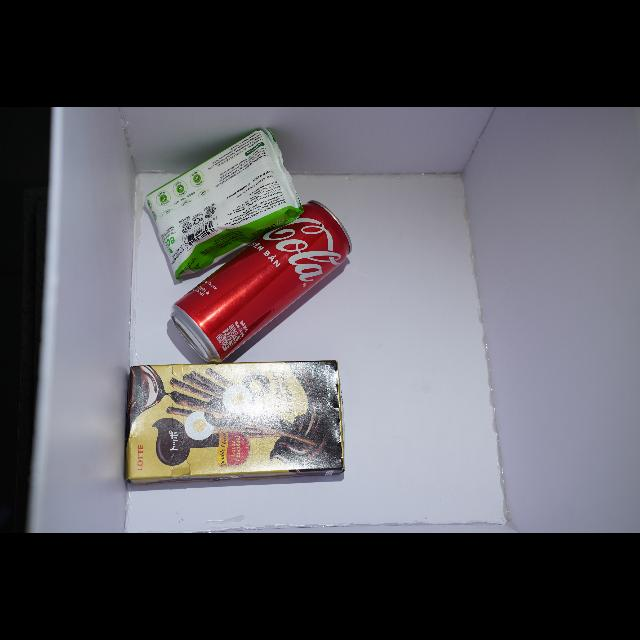banh_toppo_socola: (128, 361, 344, 479)
coca_cola: (171, 201, 351, 363)
khan_giay: (144, 129, 302, 278)
